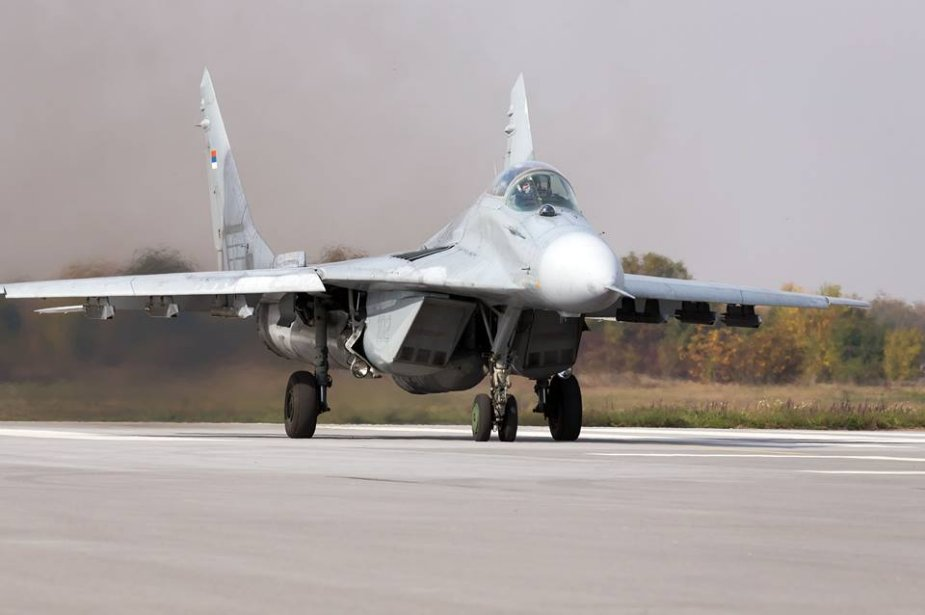Mig-29: (52, 52, 835, 462)
